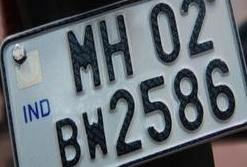0: (146, 1, 181, 64)
2: (106, 87, 144, 155), (180, 0, 214, 57)
5: (138, 73, 173, 142)
6: (204, 55, 236, 121)
8: (171, 66, 204, 131)
B: (51, 115, 82, 166)
H: (96, 13, 133, 81)
M: (64, 23, 103, 93)
W: (80, 106, 110, 160)
